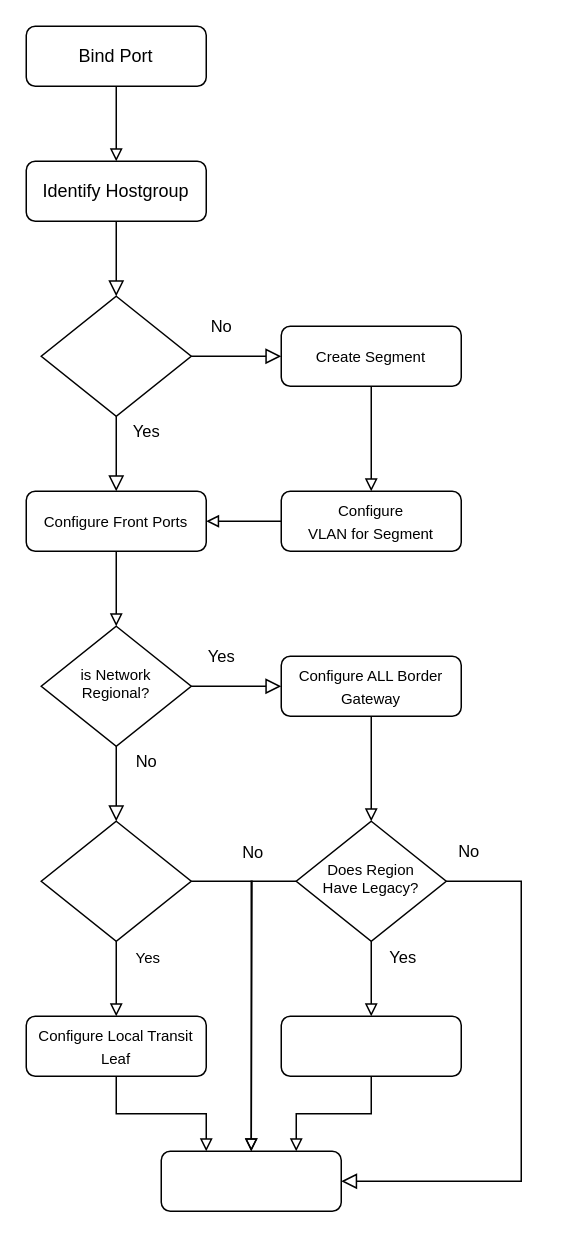
Image size: 563x1238. Some labels were removed from this diagram. The shapes that lost their labels are listed below. From the top down, each one's centre as x and y in pixels, then its label:
point (115, 355): Segment Present?
point (115, 880): Does AZ Have Legacy?
point (370, 1045): Configure ALL Transit Leaf
point (250, 1180): Done
